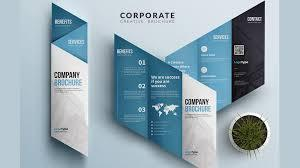paper: (114, 2, 266, 167), (51, 3, 89, 156)
